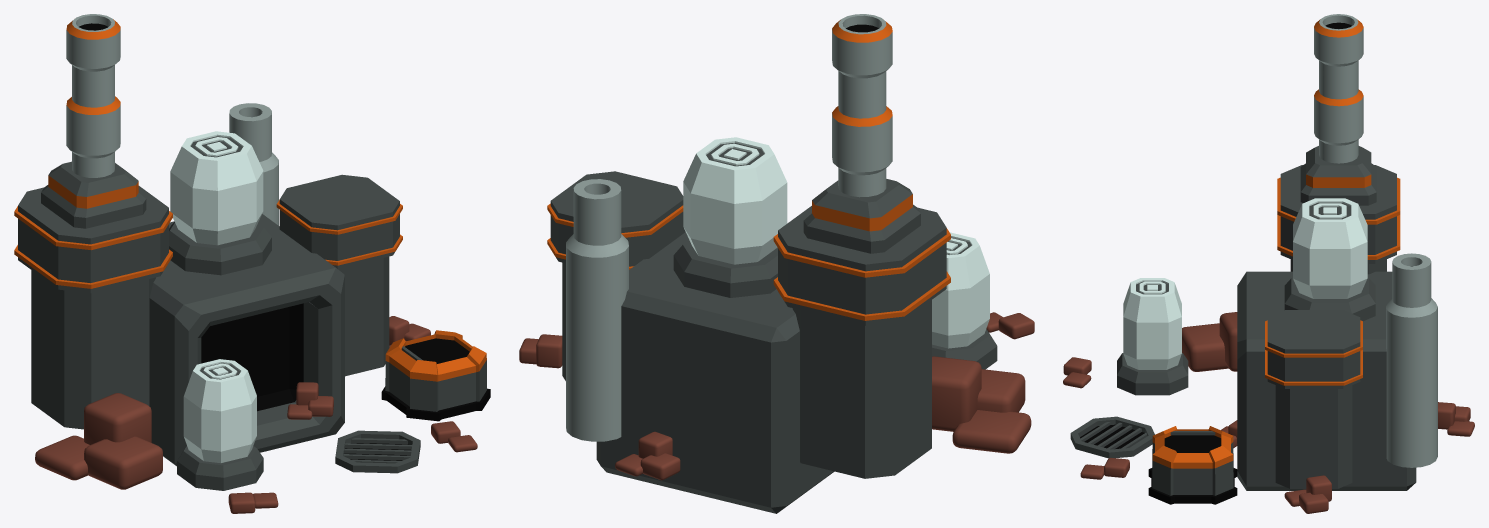
Rendered from Building_Rocks_Harvest.fbx.
3 views of the same model, side by side, from view 1: azimuth 30°, elevation 25°; view 2: azimuth 150°, elevation 25°; view 3: azimuth 270°, elevation 25° (orthographic). The views are drawn at different scales.
Visible parts, largest first — view 1: Building_Rocks_Harvest; view 2: Building_Rocks_Harvest; view 3: Building_Rocks_Harvest.
Part boxes in pixels (left/top/right/bottom): Building_Rocks_Harvest: left=14, top=14, right=490, bottom=513; Building_Rocks_Harvest: left=519, top=14, right=1034, bottom=513; Building_Rocks_Harvest: left=1063, top=14, right=1474, bottom=513.
Bounding box in the file's own units: 1.68 × 1.62 × 1.57.
